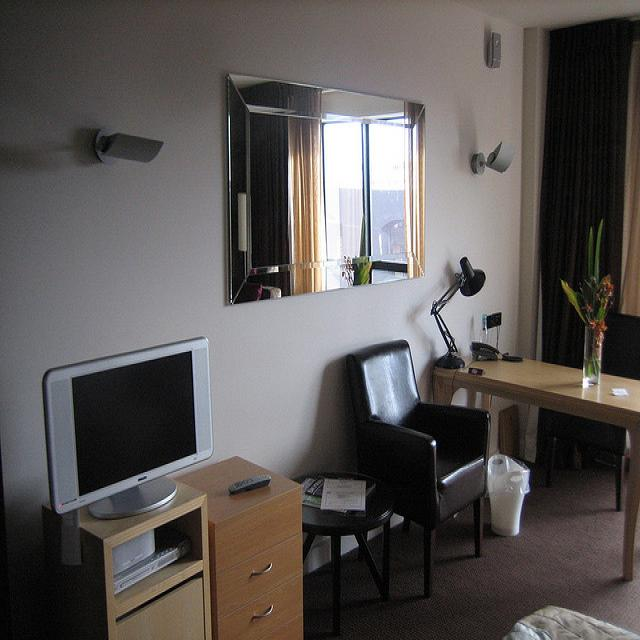chair: (344, 337, 490, 596), (604, 314, 640, 513)
dining table: (434, 353, 640, 582)
